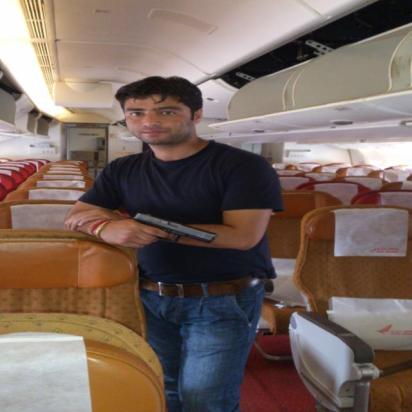Gun: (118, 212, 221, 250)
